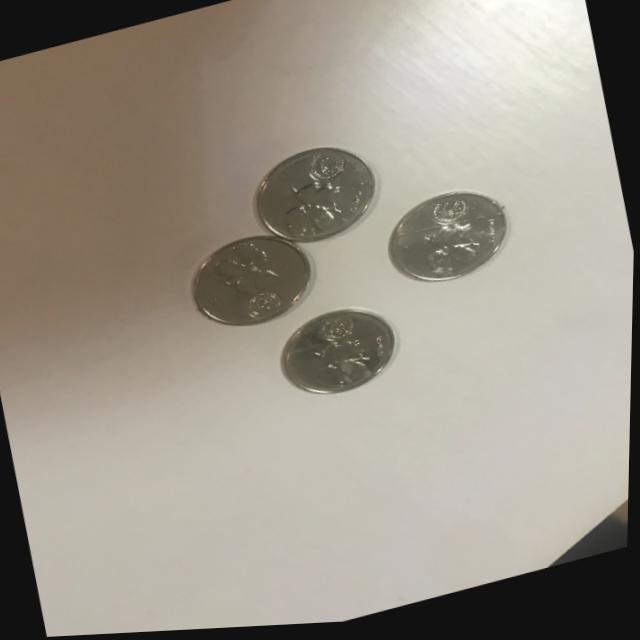25Cent_New_Back: (194, 234, 310, 326), (255, 151, 363, 234), (293, 305, 396, 392), (397, 199, 497, 282)
